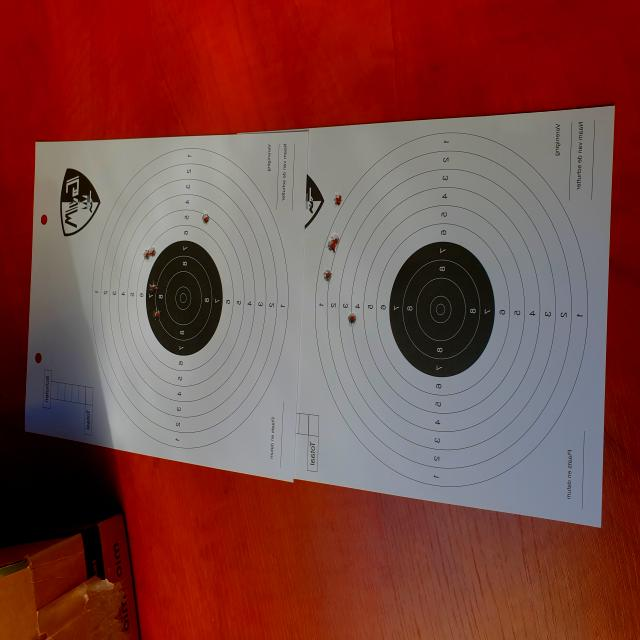0: (332, 192, 342, 206)
1: (326, 242, 336, 253), (331, 233, 340, 244)
2: (323, 268, 332, 282)
4: (348, 312, 357, 325)
5: (201, 212, 211, 226)
6: (143, 248, 150, 260), (150, 246, 156, 258)
8: (148, 281, 158, 294), (153, 309, 162, 323)
Target: (314, 130, 588, 489), (92, 146, 288, 449)
black_contour: (388, 240, 494, 379), (145, 240, 223, 356)
